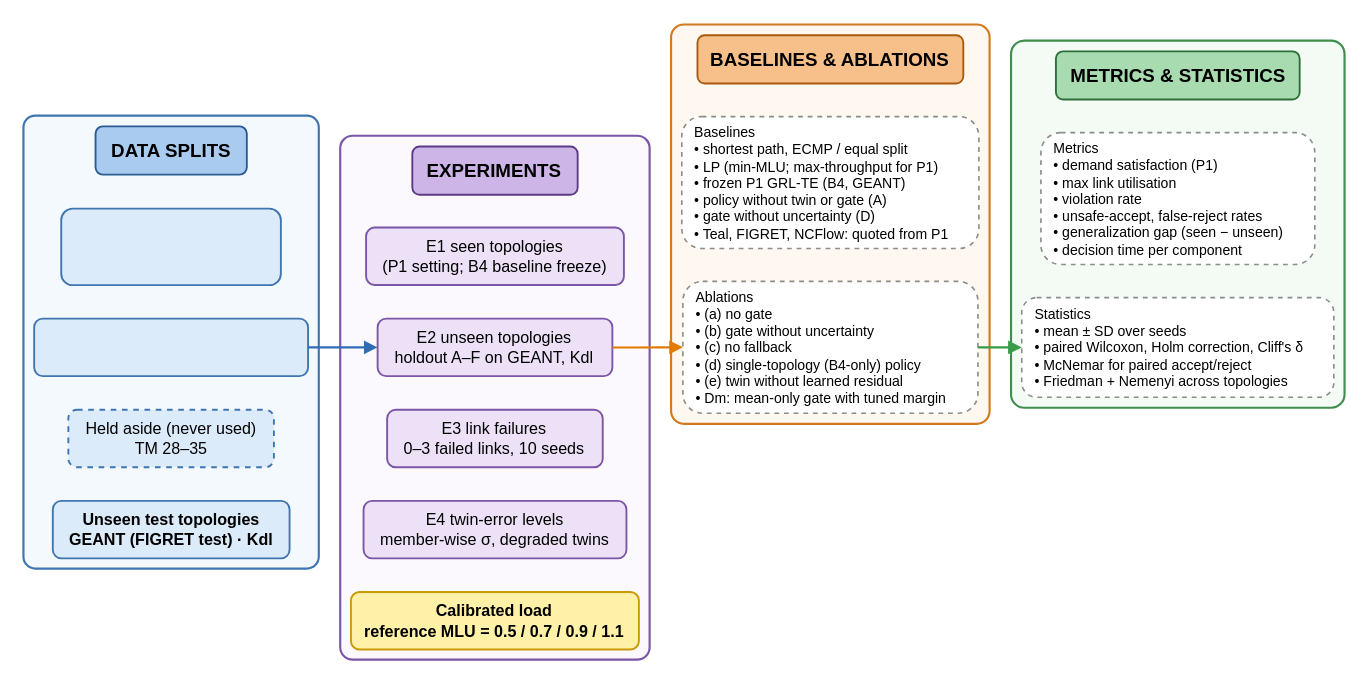
This 1369x683 diagram has some shape labels left out. The centre of each missing label's shape, as x and y in pixels:
Train topologies B4 · UsCarrier · Cogentco TM indices 0–19: (x=170, y=246)
Validation (tuning / selection only) same topologies, TM 20–27: (x=170, y=346)
